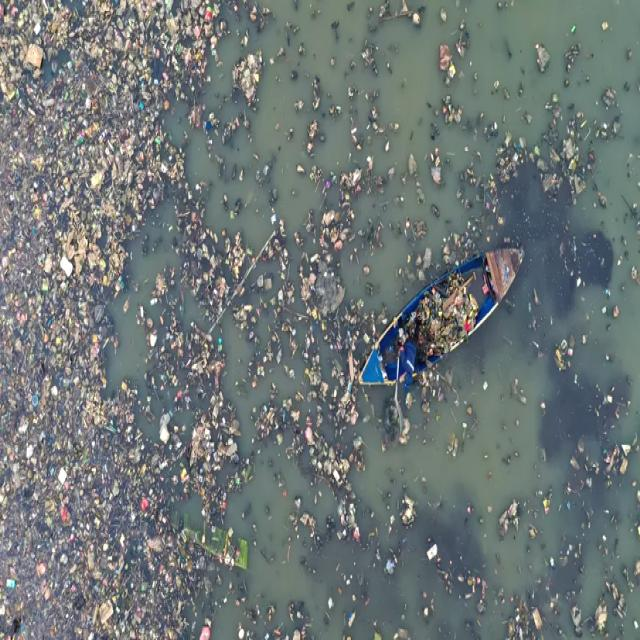plastic watse: (0, 0, 205, 635)
